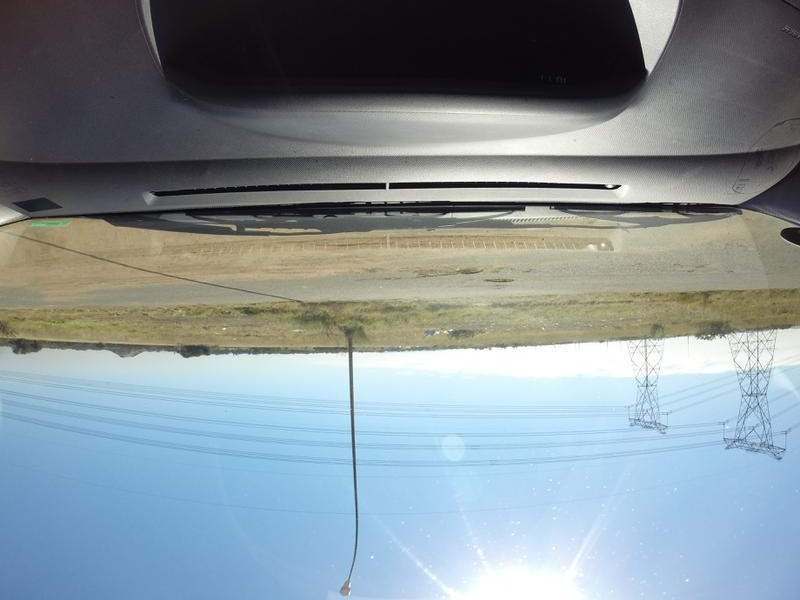pothole: (414, 265, 481, 276), (477, 278, 514, 286), (380, 273, 399, 280)
